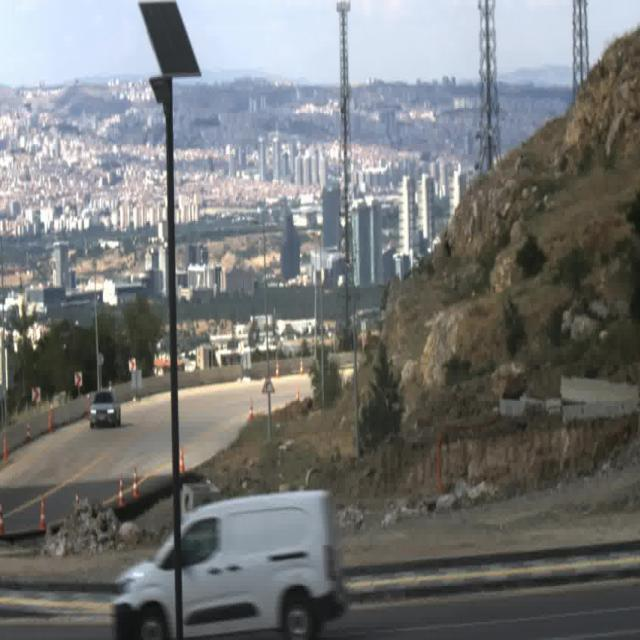Car: (114, 488, 338, 636), (89, 389, 120, 429)
